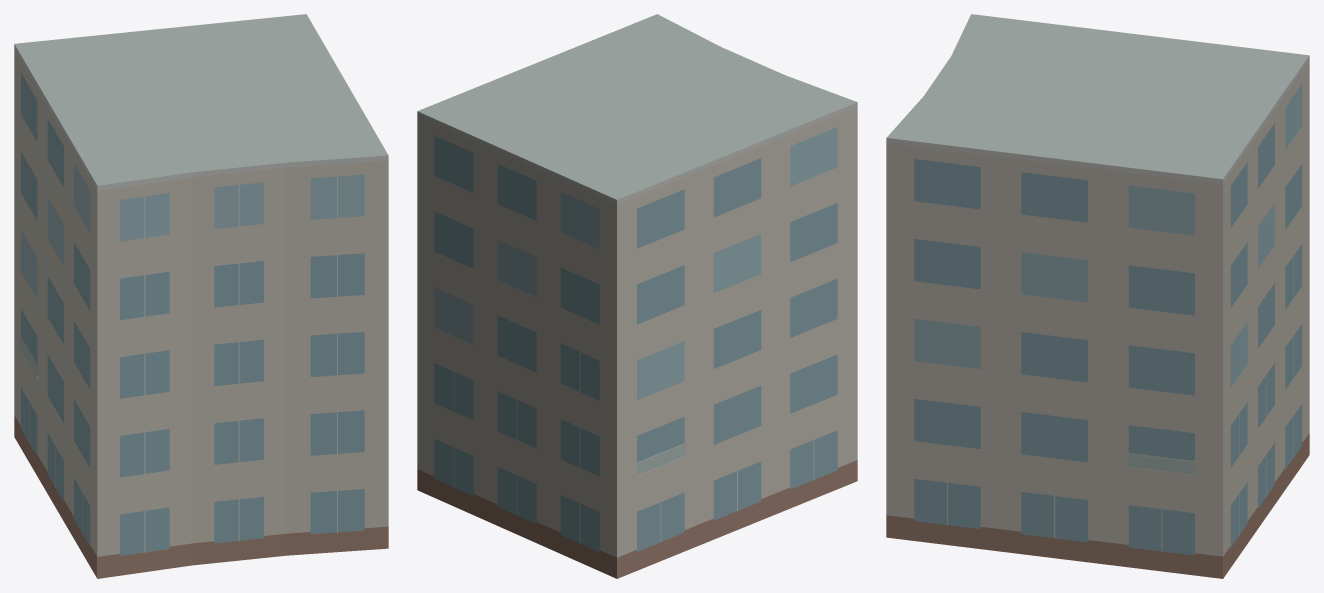
Rendered from survey-upis-32722340.glb.
The picture shows the model from 3 angles, left to right: view 1: azimuth 30°, elevation 25°; view 2: azimuth 150°, elevation 25°; view 3: azimuth 270°, elevation 25°; orthographic projection. The views are drawn at different scales.
Parts seen in each view (by area): view 1: survey-upis-32722340.tmp; view 2: survey-upis-32722340.tmp; view 3: survey-upis-32722340.tmp.
Part boxes in pixels (x1=…): survey-upis-32722340.tmp: x1=14, y1=14, x2=388, y2=578; survey-upis-32722340.tmp: x1=417, y1=14, x2=857, y2=578; survey-upis-32722340.tmp: x1=886, y1=14, x2=1309, y2=578.
Size of the model in its own units: 17.21 by 19.4 by 18.63.
